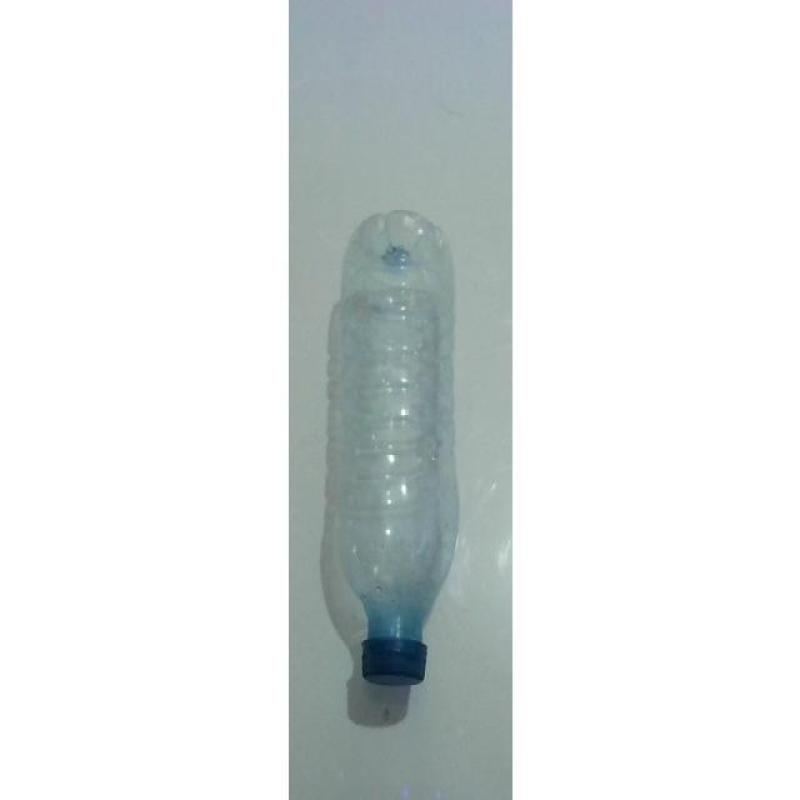botella: (332, 209, 462, 685)
